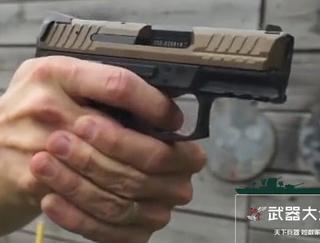gun: (1, 1, 320, 243)
